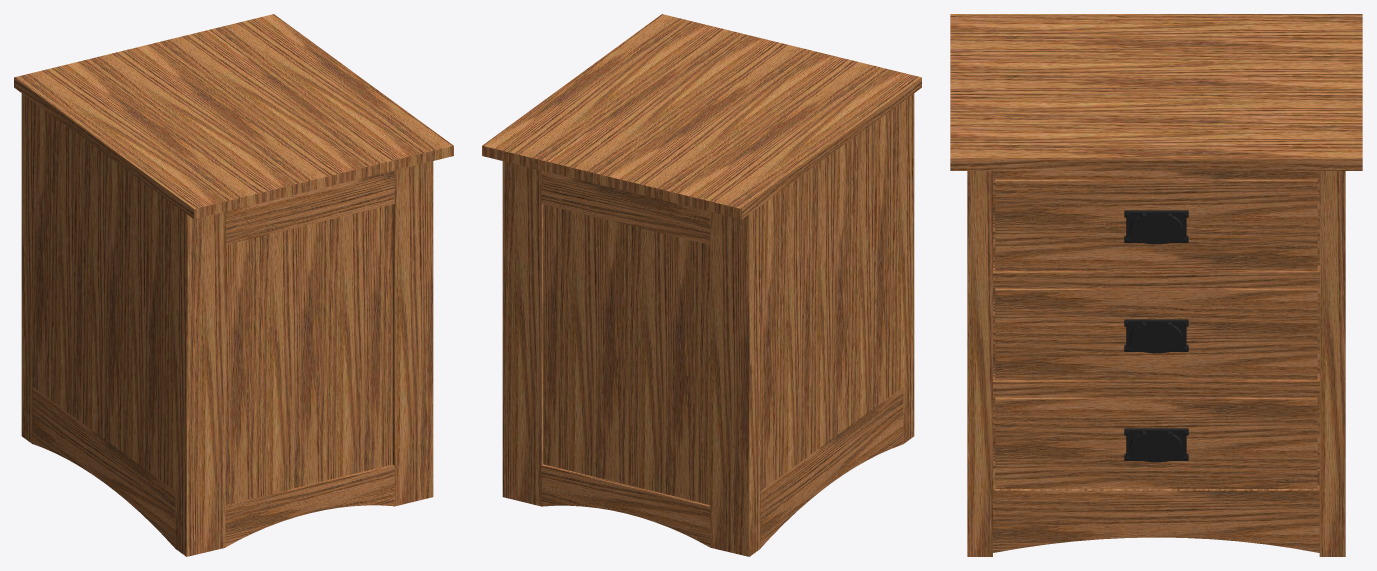
Rendered from Nightstand.obj.
The picture shows the model from 3 angles, left to right: view 1: azimuth 30°, elevation 25°; view 2: azimuth 150°, elevation 25°; view 3: azimuth 270°, elevation 25°; orthographic projection. The views are drawn at different scales.
Parts seen in each view (by area): view 1: Mesh5 skpFF25_1 Component_9_1 Model, Mesh4 skpFF25_1 Component_9_1 Model; view 2: Mesh5 skpFF25_1 Component_9_1 Model, Mesh4 skpFF25_1 Component_9_1 Model; view 3: Mesh5 skpFF25_1 Component_9_1 Model, Mesh4 skpFF25_1 Component_9_1 Model, Mesh1 Component_8_1 skpFF25_1 Component_9_1 Model, Mesh2 Component_8_2 skpFF25_1 Component_9_1 Model, Mesh3 Component_8_3 skpFF25_1 Component_9_1 Model.
Boxes of the visible parts, left/top/right/bottom form: Mesh5 skpFF25_1 Component_9_1 Model: left=21, top=93, right=433, bottom=556; Mesh4 skpFF25_1 Component_9_1 Model: left=14, top=14, right=453, bottom=219; Mesh5 skpFF25_1 Component_9_1 Model: left=502, top=93, right=914, bottom=556; Mesh4 skpFF25_1 Component_9_1 Model: left=482, top=14, right=921, bottom=219; Mesh5 skpFF25_1 Component_9_1 Model: left=967, top=171, right=1345, bottom=556; Mesh4 skpFF25_1 Component_9_1 Model: left=950, top=14, right=1362, bottom=170; Mesh1 Component_8_1 skpFF25_1 Component_9_1 Model: left=1124, top=210, right=1188, bottom=244; Mesh2 Component_8_2 skpFF25_1 Component_9_1 Model: left=1124, top=319, right=1188, bottom=353; Mesh3 Component_8_3 skpFF25_1 Component_9_1 Model: left=1124, top=428, right=1188, bottom=462.
Bounding box in the file's own units: 0.3708 × 0.4821 × 0.445.
Materials: 5 (3 with a texture image).
